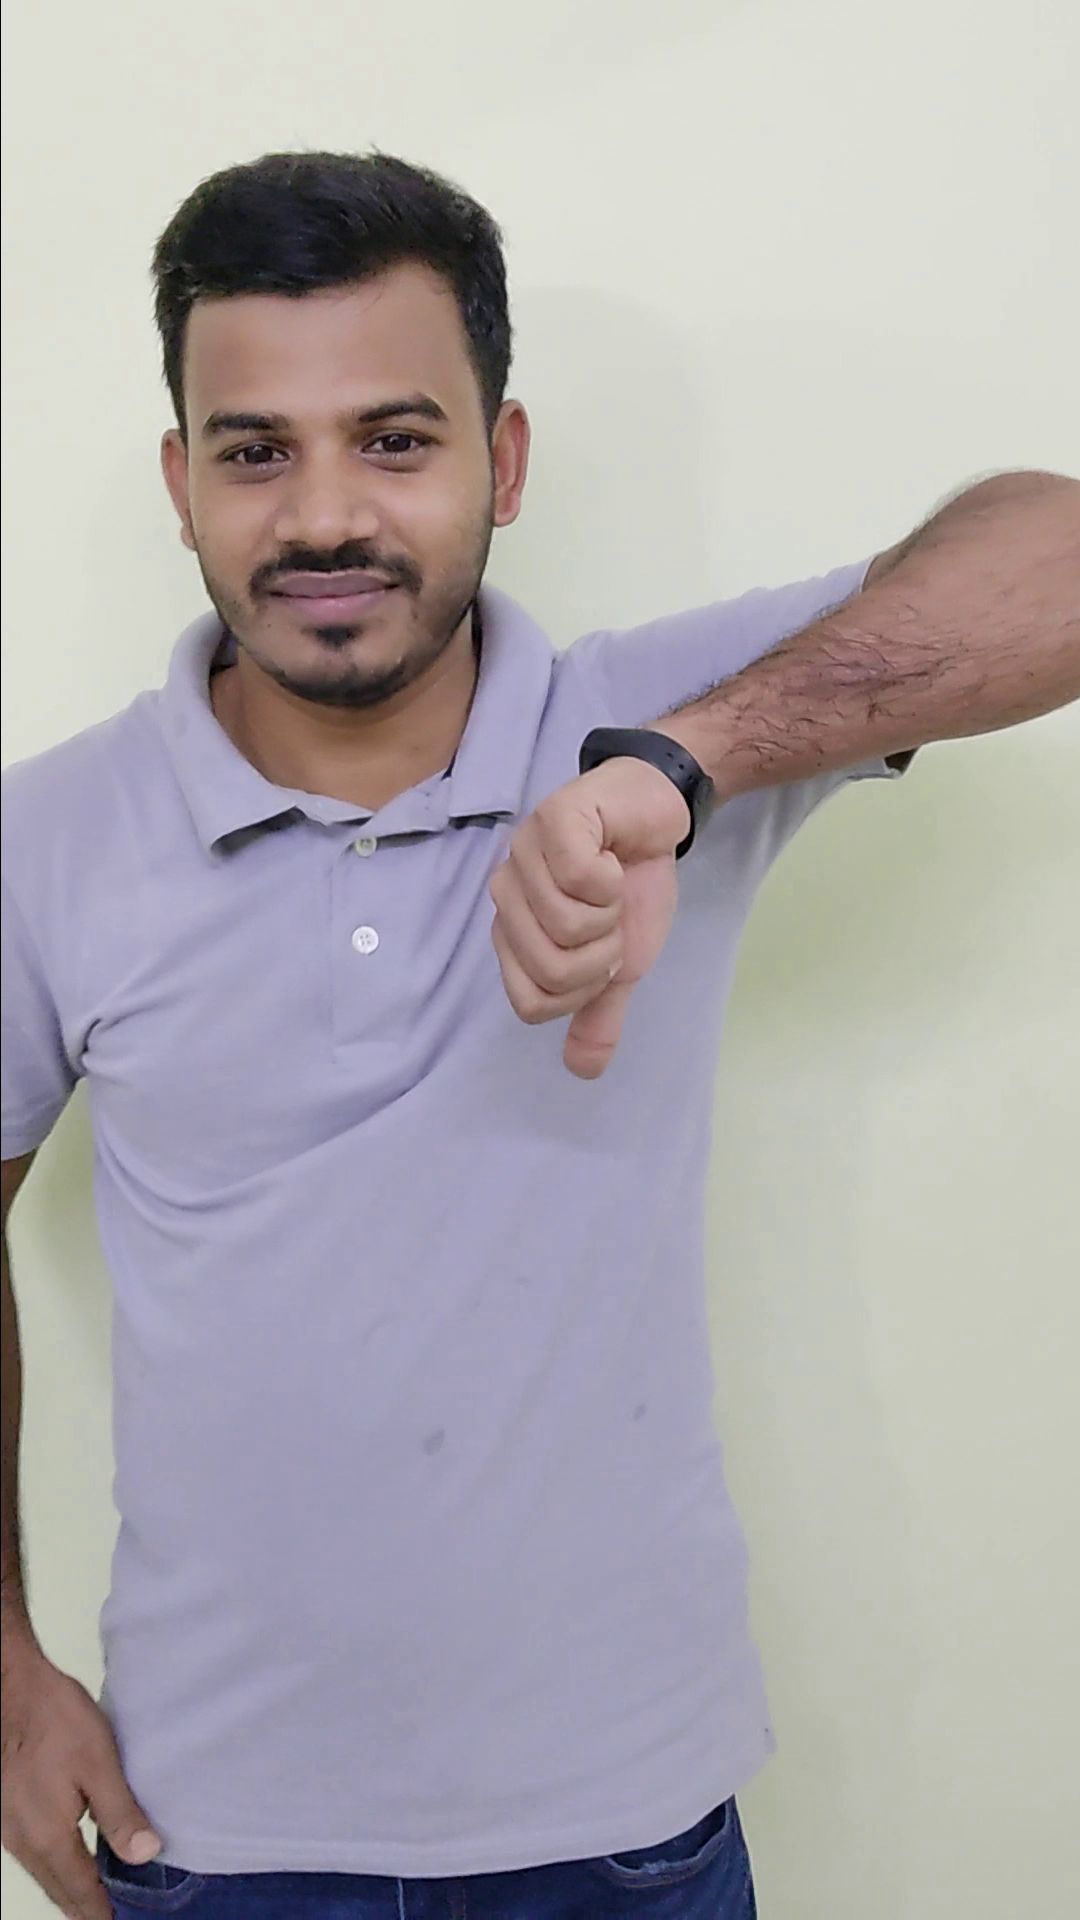Dislike: (471, 721, 699, 1096)
None: (0, 1625, 173, 1920)
